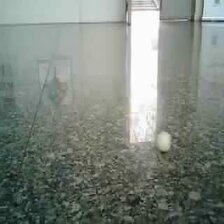w: (157, 131, 172, 152)
